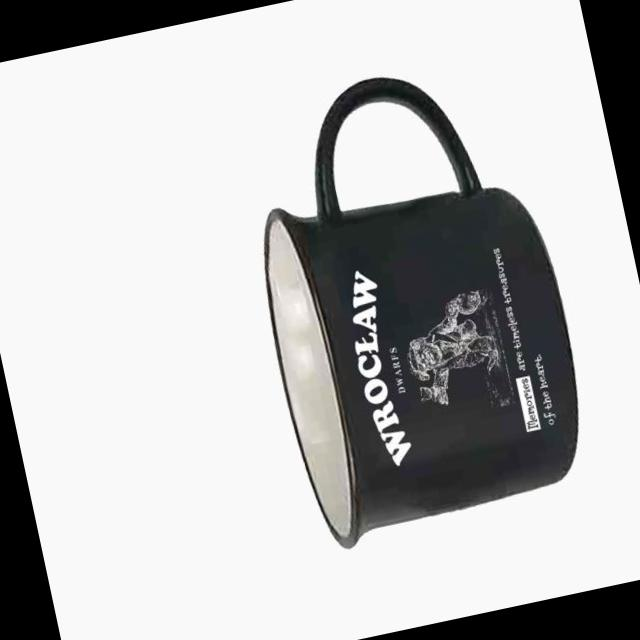Coffee Mug: (225, 46, 604, 552)
